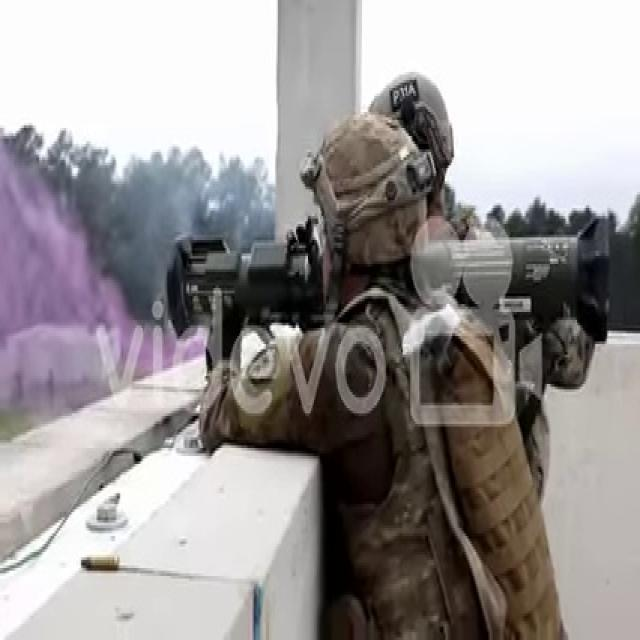bazooka: (163, 212, 623, 357)
